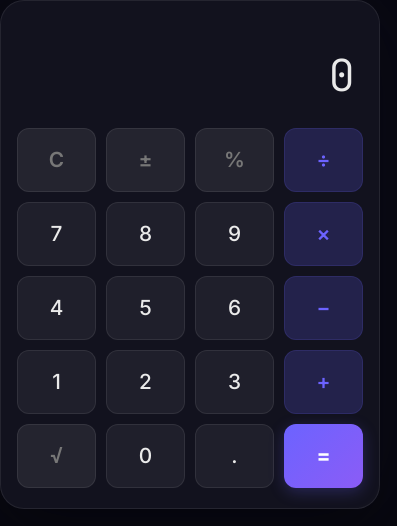
Scenario: Calculator component › performs a calculation via API
The width and height of the screenshot is (397, 526).
Click the button "5" at (146, 308), box [106,276,185,340]
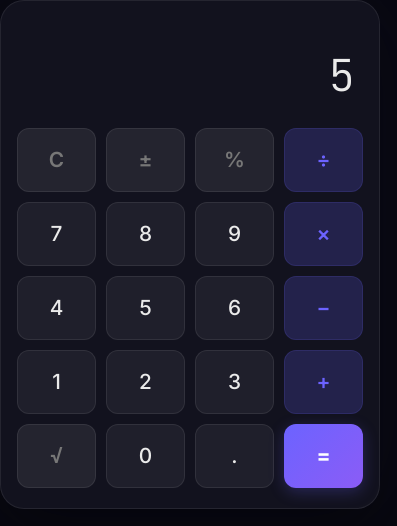
Click the button "+" at (324, 382), box [284,350,363,414]
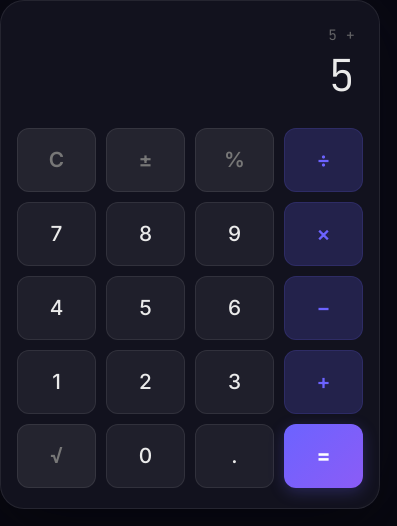
Click the button "1" at (56, 382), box [17,350,96,414]
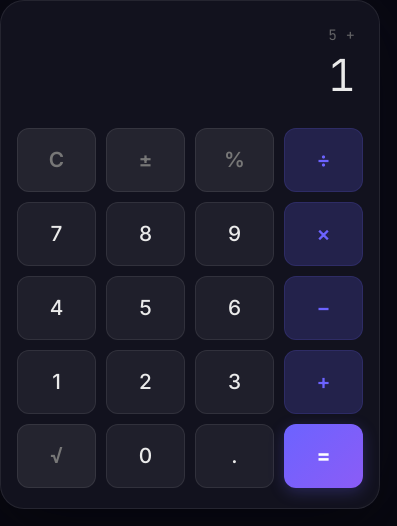
Click the button "0" at (146, 456), box [106,424,185,488]
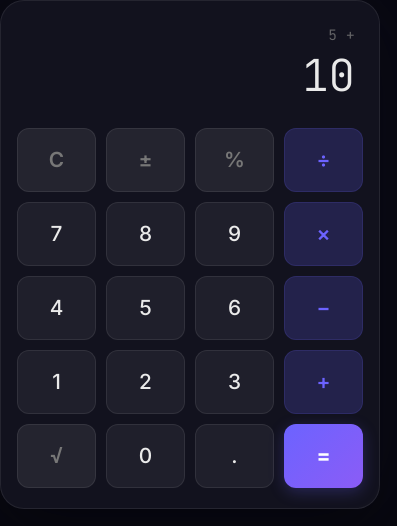
Click the button "=" at (324, 456), box [284,424,363,488]
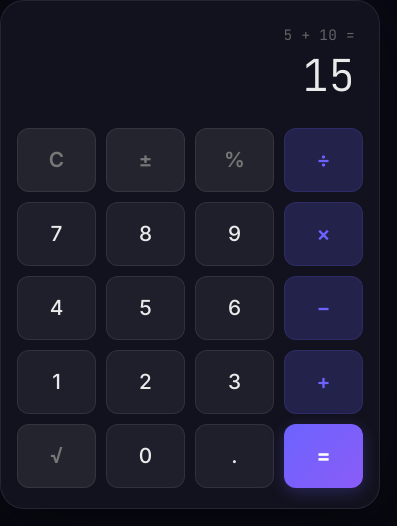
Check: the text with id "display-value" reads "15", box [302,46,355,104]
